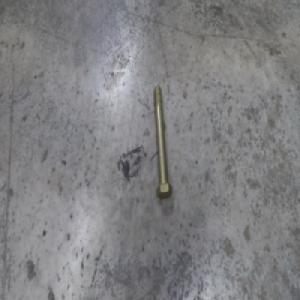Bolt: (150, 86, 172, 198)
